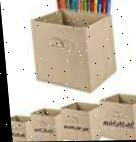cube: (28, 11, 118, 93), (95, 94, 136, 141), (56, 101, 98, 141), (27, 108, 59, 142)
